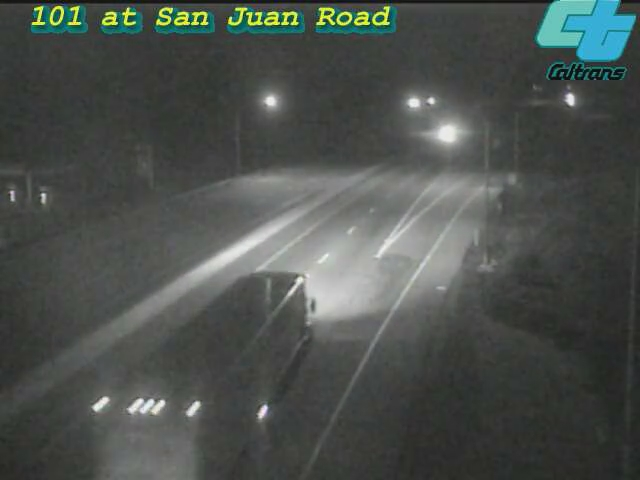vehicle: (185, 306, 295, 416), (427, 107, 477, 157)
